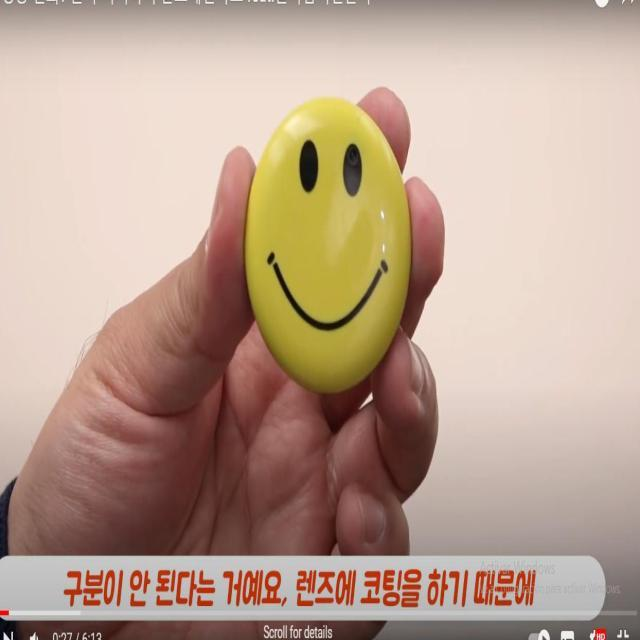hidden camera: (342, 139, 363, 170)
